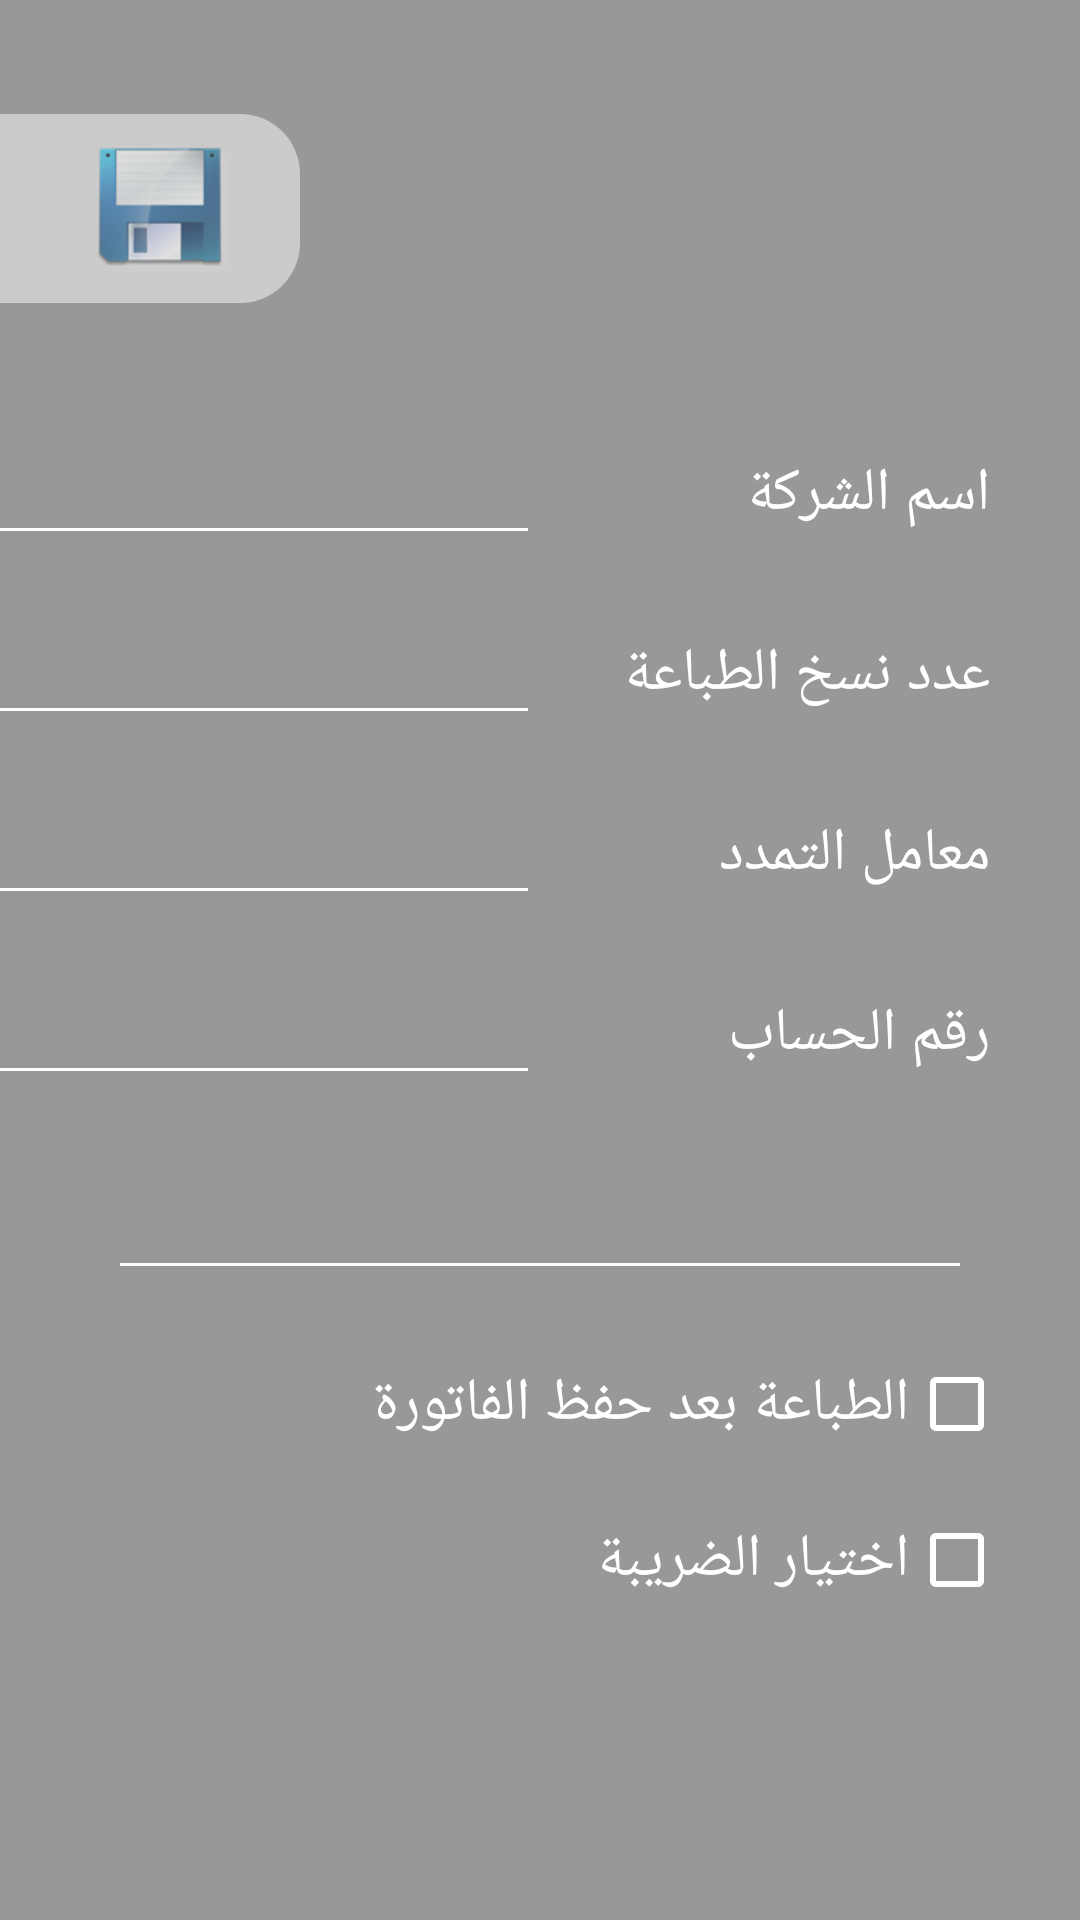

Named icons in this screenshot (1080x1920) and their centers, point (x, y):
sav: point (160, 206)
